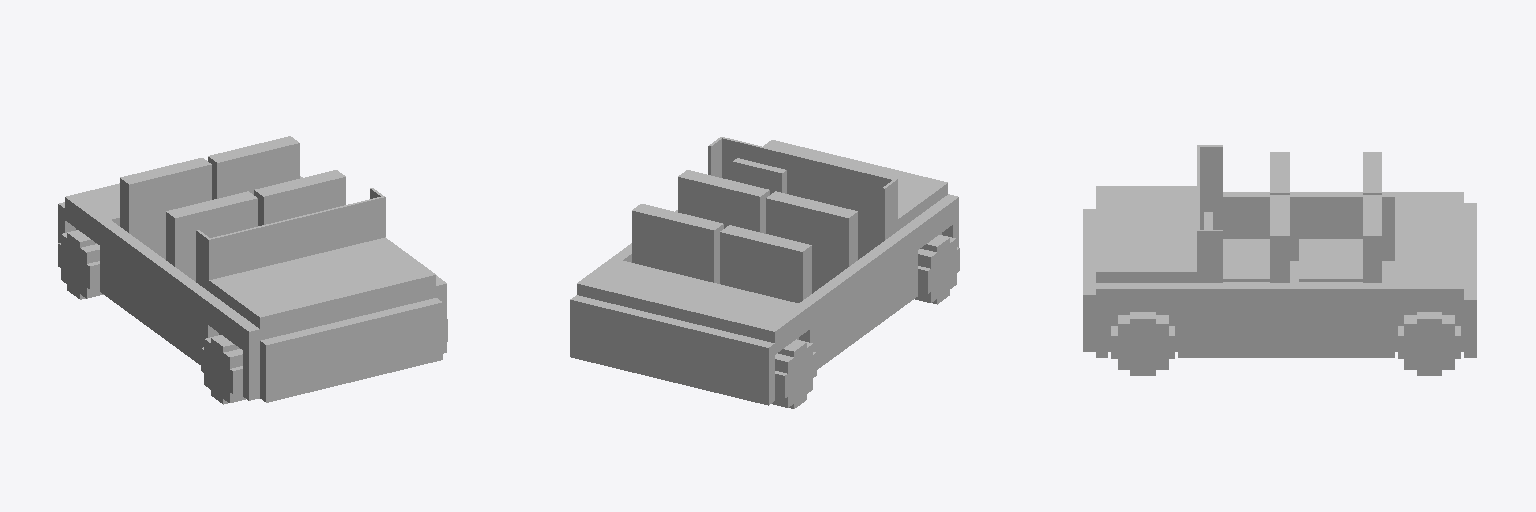
File: car_001.obj
The picture shows the model from 3 angles: view 1: azimuth 30°, elevation 25°; view 2: azimuth 150°, elevation 25°; view 3: azimuth 270°, elevation 25°; orthographic projection.
Visible parts, largest first — view 1: car001; view 2: car001; view 3: car001.
Part boxes in pixels (x1,y1,x2,y2): car001: (58, 136, 447, 404); car001: (570, 137, 959, 408); car001: (1083, 145, 1476, 375).
Bounding box in the file's own units: 19.5 × 11.75 × 31.